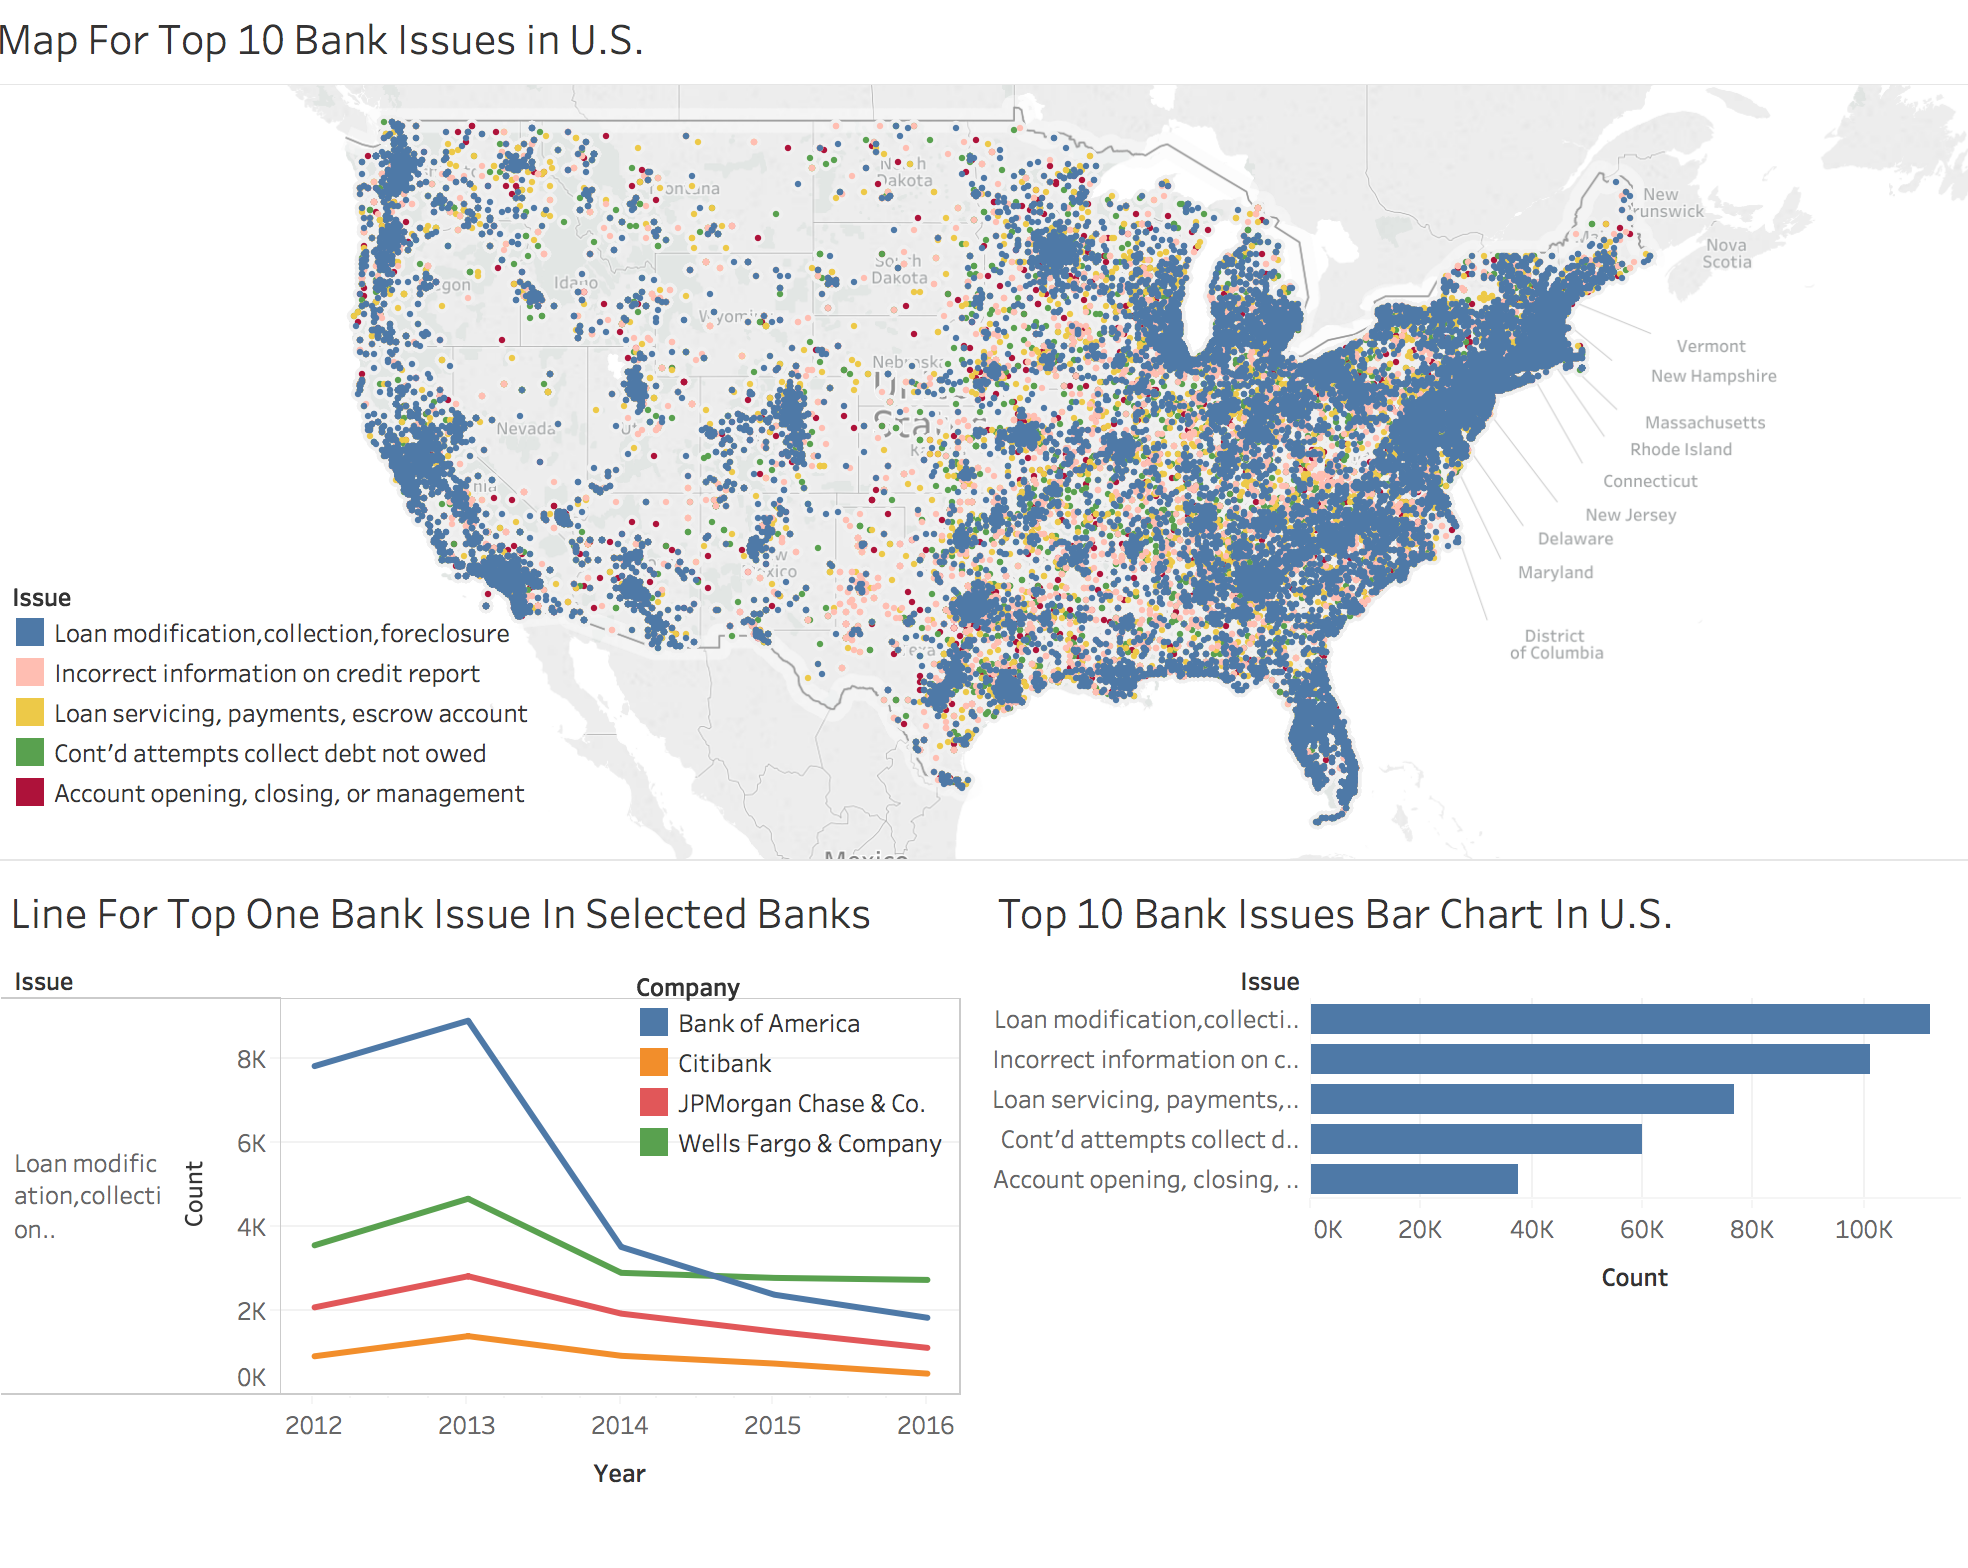

What the dashboard file says about the page in this screenshot:
{"tool":"tableau","page":{"name":"Dashboard 1","canvas":[1000,800],"ordinal":0},"visuals":[{"type":"legend","title":"USmap","param":"[federated.1d4zj1z13ykwzn1a44wk400wsxj5].[none:Issue:nk]","box":[13,296,282,250]},{"type":"worksheet","title":"lines","mark":"Automatic","rows":["Issue","Issue"],"cols":["Date received"],"box":[9,444,480,317]},{"type":"worksheet","title":"bar chart","mark":"Bar","rows":["Issue"],"cols":["Issue"],"box":[503,444,485,312]},{"type":"legend","title":"lines","param":"[federated.1d4zj1z13ykwzn1a44wk400wsxj5].[none:Company:nk]","box":[325,491,159,98]}]}

Visuals, with their boxes in screenshot pixels (x1, y1, x2, y2), scaled from the page's 1000x800 canvas onto the 1968x1568 screenshot:
"USmap" legend: 26/580/581/1070
"lines" worksheet: 18/870/962/1492
"bar chart" worksheet (Bar marks): 990/870/1944/1482
"lines" legend: 640/962/953/1154
